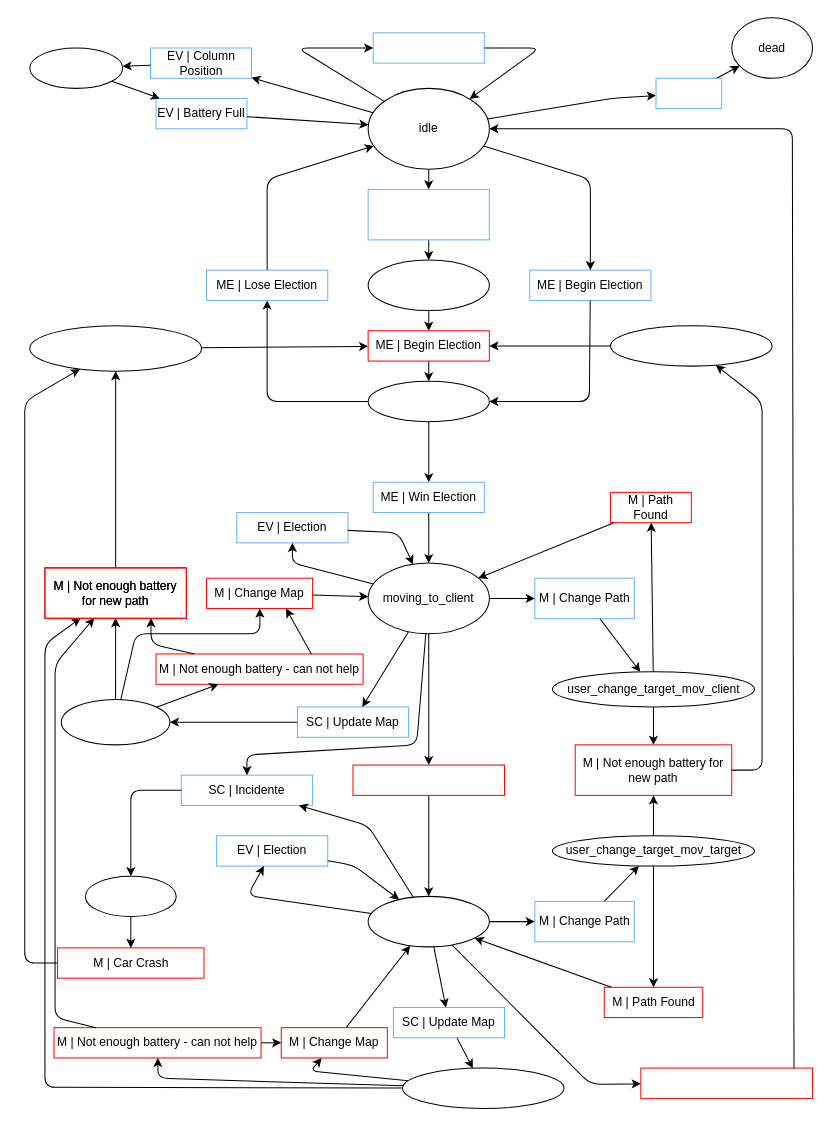
This 830x1126 diagram has some shape labels left out. Each missing label, with the centre of its shape:
"Crash" goes at point (130, 896).
"EV | Map Updated" goes at point (428, 47).
"M | Arrived in Target Position" goes at point (726, 1082).
"M | Arrived in User Position" goes at point (428, 779).
"ME | Begin Election Service Module" goes at point (428, 214).
"moving_to_target" goes at point (428, 921).
"recharging" goes at point (76, 67).
"Running Election" goes at point (428, 401).
"SC | Die" goes at point (688, 93).
"Starting Election From Change Target" goes at point (691, 345).
"Starting Election From Unexpected Problem" goes at point (115, 348).
"Starting Election Initiator Mode" goes at point (428, 285).
"Update Map Moving Client" goes at point (115, 721).
"Update Map Moving Target" goes at point (482, 1087).
